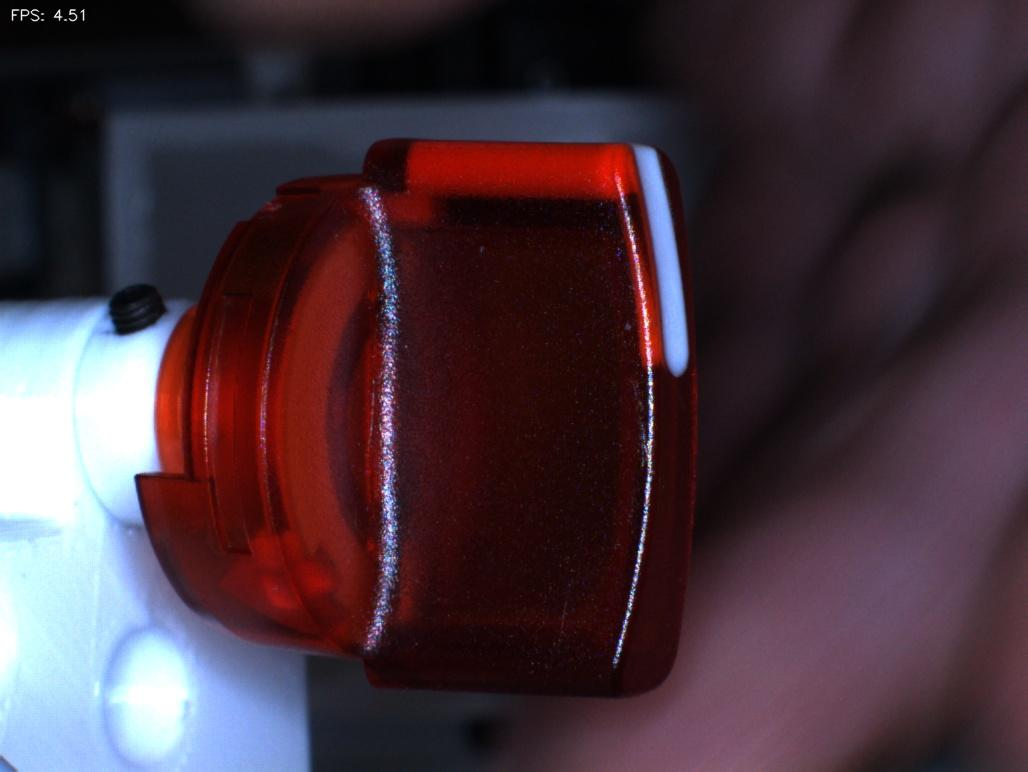Givrage: (598, 372, 680, 503), (532, 560, 605, 665)
